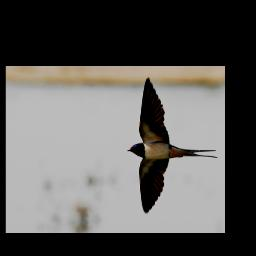Swallow: (127, 76, 219, 217)
